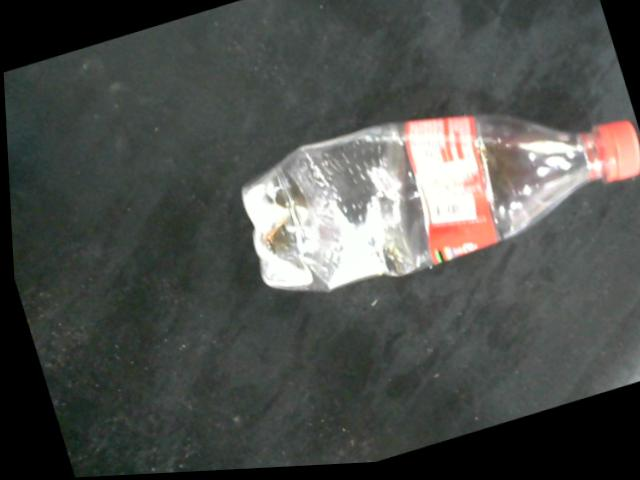bottle: (239, 119, 640, 297)
